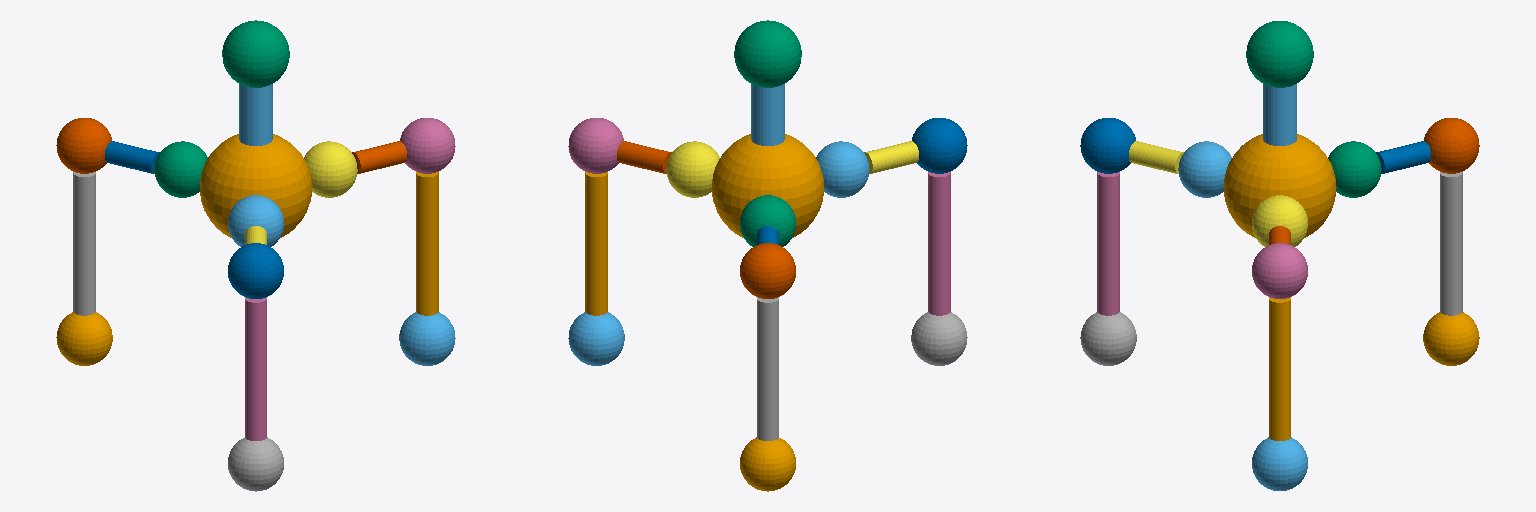
robot.urdf — spider/spider:
<?xml version="1.0"?>
<robot name="spider/spider">
<link name="brain">
  <inertial>
   <mass value="1"/>
   <inertia ixx="0.016" ixy="0" ixz="0" iyy="0.016" iyz="0" izz="0.016"/>
  </inertial>
  <collision>
    <origin rpy="0 0 0" xyz="0 0 0"/>
    <geometry>
      <sphere radius="0.2"/>
    </geometry>
  </collision>
  <visual>
    <origin rpy="0 0 0" xyz="0 0 0"/>
    <geometry>
      <sphere radius="0.2"/>
    </geometry>
  </visual>
</link>

 <link name="eye_brain">
  <inertial>
    <mass value="1"/>
    <inertia ixx="0.0084" ixy="0" ixz="0" iyy="0.0084" iyz="0" izz="0.0009"/>
  </inertial>
  <visual>
    <origin rpy="0 0 1.57" xyz="0 0 0.3"/>
    <geometry>
      <cylinder length="0.3" radius="0.06"/>
    </geometry>
  </visual>
  <collision>
    <origin rpy="0 0 1.57" xyz="0 0 0.3"/>
    <geometry>
      <cylinder length="0.3" radius="0.06"/>
    </geometry>
  </collision>
 </link>

<joint name="joint_eye_brain_brain" type="fixed">
  <origin rpy="0 0 0" xyz="0 0 0"/>
  <parent link="eye_brain"/>
  <child link="brain"/>
</joint>

<link name="container_brain">
  <inertial>
   <mass value="1"/>
   <inertia ixx="0.00576" ixy="0" ixz="0" iyy="0.00576" iyz="0" izz="0.00576"/>
  </inertial>
  <collision>
    <origin rpy="0 0 0" xyz="0 0 0.52"/>
    <geometry>
      <sphere radius="0.12"/>
    </geometry>
  </collision>
  <visual>
    <origin rpy="0 0 0" xyz="0 0 0.52"/>
    <geometry>
      <sphere radius="0.12"/>
    </geometry>
  </visual>
</link>

<joint name="joint_container_brain_eye_brain" type="fixed">
  <origin rpy="0 0 0" xyz="0 0 0"/>
  <parent link="container_brain"/>
  <child link="eye_brain"/>
</joint>

<link name="brain_sphere_0">
  <inertial>
   <mass value="1"/>
   <inertia ixx="0.004" ixy="0" ixz="0" iyy="0.004" iyz="0" izz="0.004"/>
  </inertial>
  <collision>
    <origin rpy="0 0 0" xyz="0.3 0.0 0"/>
    <geometry>
      <sphere radius="0.1"/>
    </geometry>
  </collision>
  <visual>
    <origin rpy="0 0 0" xyz="0.3 0.0 0"/>
    <geometry>
      <sphere radius="0.1"/>
    </geometry>
  </visual>
</link>

<joint name="joint_brain_brain_sphere_0" type="fixed">
  <origin rpy="0 0 0" xyz="0 0 0"/>
  <parent link="brain"/>
  <child link="brain_sphere_0"/>
</joint>

<joint name="leg_0_link0_spherical_Z" type="revolute">
  <origin rpy="0 0 0" xyz="0.3 0.0 0"/>
  <parent link="brain_sphere_0"/>
  <child link="brain_sphere_0_spherical_joint_link"/>
  <axis xyz="0 0 1"/>
  <dynamics damping="0.01" friction="0.5"/>
  <limit lower="-0.196349540849" upper="0.196349540849" effort="0.01" velocity="100"/>
</joint>

<link name="brain_sphere_0_spherical_joint_link" physical="0">
  <inertial>
   <mass value="1"/>
   <inertia ixx="4e-07" ixy="0" ixz="0" iyy="4e-07" iyz="0" izz="4e-07"/>
  </inertial>
  <collision>
    <origin rpy="0 0 0" xyz="0 0 0"/>
    <geometry>
      <sphere radius="0.001"/>
    </geometry>
  </collision>
  <visual>
    <origin rpy="0 0 0" xyz="0 0 0"/>
    <geometry>
      <sphere radius="0.001"/>
    </geometry>
  </visual>
</link>

<joint name="leg_0_link0_spherical_Y" type="revolute">
  <origin rpy="0 0 0" xyz="0 0 0"/>
  <parent link="brain_sphere_0_spherical_joint_link"/>
  <child link="leg_0_link0"/>
  <axis xyz="0 1 0"/>
  <dynamics damping="0.01" friction="0.5"/>
  <limit lower="-0.196349540849" upper="0.196349540849" effort="0.01" velocity="100"/>
</joint>

 <link name="leg_0_link0">
  <inertial>
    <mass value="1"/>
    <inertia ixx="0.00340833333333" ixy="0" ixz="0" iyy="0.00340833333333" iyz="0" izz="0.0004"/>
  </inertial>
  <visual>
    <origin rpy="0 1.57 0.0" xyz="0.2 0.0 0"/>
    <geometry>
      <cylinder length="0.19" radius="0.04"/>
    </geometry>
  </visual>
  <collision>
    <origin rpy="0 1.57 0.0" xyz="0.2 0.0 0"/>
    <geometry>
      <cylinder length="0.19" radius="0.04"/>
    </geometry>
  </collision>
 </link>

<link name="leg_0_link0_sphere">
  <inertial>
   <mass value="1"/>
   <inertia ixx="0.004" ixy="0" ixz="0" iyy="0.004" iyz="0" izz="0.004"/>
  </inertial>
  <collision>
    <origin rpy="0 0 0" xyz="0.4 0.0 0"/>
    <geometry>
      <sphere radius="0.1"/>
    </geometry>
  </collision>
  <visual>
    <origin rpy="0 0 0" xyz="0.4 0.0 0"/>
    <geometry>
      <sphere radius="0.1"/>
    </geometry>
  </visual>
</link>

<joint name="joint_leg_0_link0_leg_0_link0_sphere" type="fixed">
  <origin rpy="0 0 0" xyz="0 0 0"/>
  <parent link="leg_0_link0"/>
  <child link="leg_0_link0_sphere"/>
</joint>

<joint name="leg_0_link1_spherical_Z" type="revolute">
  <origin rpy="0 0 0" xyz="0.4 0.0 0"/>
  <parent link="leg_0_link0_sphere"/>
  <child link="leg_0_link0_sphere_spherical_joint_link"/>
  <axis xyz="0 0 1"/>
  <dynamics damping="0.01" friction="0.5"/>
  <limit lower="-0.196349540849" upper="0.196349540849" effort="0.01" velocity="100"/>
</joint>

<link name="leg_0_link0_sphere_spherical_joint_link" physical="0">
  <inertial>
   <mass value="1"/>
   <inertia ixx="4e-07" ixy="0" ixz="0" iyy="4e-07" iyz="0" izz="4e-07"/>
  </inertial>
  <collision>
    <origin rpy="0 0 0" xyz="0 0 0"/>
    <geometry>
      <sphere radius="0.001"/>
    </geometry>
  </collision>
  <visual>
    <origin rpy="0 0 0" xyz="0 0 0"/>
    <geometry>
      <sphere radius="0.001"/>
    </geometry>
  </visual>
</link>

<joint name="leg_0_link1_spherical_Y" type="revolute">
  <origin rpy="0 0 0" xyz="0 0 0"/>
  <parent link="leg_0_link0_sphere_spherical_joint_link"/>
  <child link="leg_0_link1"/>
  <axis xyz="0 1 0"/>
  <dynamics damping="0.01" friction="0.5"/>
  <limit lower="-0.196349540849" upper="0.196349540849" effort="0.01" velocity="100"/>
</joint>

 <link name="leg_0_link1">
  <inertial>
    <mass value="1"/>
    <inertia ixx="0.0247" ixy="0" ixz="0" iyy="0.0247" iyz="0" izz="0.0004"/>
  </inertial>
  <visual>
    <origin rpy="0 0 0.0" xyz="0 0 -0.375"/>
    <geometry>
      <cylinder length="0.54" radius="0.04"/>
    </geometry>
  </visual>
  <collision>
    <origin rpy="0 0 0.0" xyz="0 0 -0.375"/>
    <geometry>
      <cylinder length="0.54" radius="0.04"/>
    </geometry>
  </collision>
 </link>

<link name="leg_0_link1_sphere">
  <inertial>
   <mass value="1"/>
   <inertia ixx="0.004" ixy="0" ixz="0" iyy="0.004" iyz="0" izz="0.004"/>
  </inertial>
  <collision>
    <origin rpy="0 0 0" xyz="0 0 -0.75"/>
    <geometry>
      <sphere radius="0.1"/>
    </geometry>
  </collision>
  <visual>
    <origin rpy="0 0 0" xyz="0 0 -0.75"/>
    <geometry>
      <sphere radius="0.1"/>
    </geometry>
  </visual>
</link>

<joint name="joint_leg_0_link1_leg_0_link1_sphere" type="fixed">
  <origin rpy="0 0 0" xyz="0 0 0"/>
  <parent link="leg_0_link1"/>
  <child link="leg_0_link1_sphere"/>
</joint>

<link name="brain_sphere_1">
  <inertial>
   <mass value="1"/>
   <inertia ixx="0.004" ixy="0" ixz="0" iyy="0.004" iyz="0" izz="0.004"/>
  </inertial>
  <collision>
    <origin rpy="0 0 0" xyz="-0.15 0.259807621135 0"/>
    <geometry>
      <sphere radius="0.1"/>
    </geometry>
  </collision>
  <visual>
    <origin rpy="0 0 0" xyz="-0.15 0.259807621135 0"/>
    <geometry>
      <sphere radius="0.1"/>
    </geometry>
  </visual>
</link>

<joint name="joint_brain_brain_sphere_1" type="fixed">
  <origin rpy="0 0 0" xyz="0 0 0"/>
  <parent link="brain"/>
  <child link="brain_sphere_1"/>
</joint>

<joint name="leg_1_link0_spherical_Z" type="revolute">
  <origin rpy="0 0 0" xyz="-0.15 0.259807621135 0"/>
  <parent link="brain_sphere_1"/>
  <child link="brain_sphere_1_spherical_joint_link"/>
  <axis xyz="0 0 1"/>
  <dynamics damping="0.01" friction="0.5"/>
  <limit lower="-0.196349540849" upper="0.196349540849" effort="0.01" velocity="100"/>
</joint>

<link name="brain_sphere_1_spherical_joint_link" physical="0">
  <inertial>
   <mass value="1"/>
   <inertia ixx="4e-07" ixy="0" ixz="0" iyy="4e-07" iyz="0" izz="4e-07"/>
  </inertial>
  <collision>
    <origin rpy="0 0 0" xyz="0 0 0"/>
    <geometry>
      <sphere radius="0.001"/>
    </geometry>
  </collision>
  <visual>
    <origin rpy="0 0 0" xyz="0 0 0"/>
    <geometry>
      <sphere radius="0.001"/>
    </geometry>
  </visual>
</link>

<joint name="leg_1_link0_spherical_Y" type="revolute">
  <origin rpy="0 0 0" xyz="0 0 0"/>
  <parent link="brain_sphere_1_spherical_joint_link"/>
  <child link="leg_1_link0"/>
  <axis xyz="0 1 0"/>
  <dynamics damping="0.01" friction="0.5"/>
  <limit lower="-0.196349540849" upper="0.196349540849" effort="0.01" velocity="100"/>
</joint>

 <link name="leg_1_link0">
  <inertial>
    <mass value="1"/>
    <inertia ixx="0.00340833333333" ixy="0" ixz="0" iyy="0.00340833333333" iyz="0" izz="0.0004"/>
  </inertial>
  <visual>
    <origin rpy="0 1.57 2.09439510239" xyz="-0.1 0.173205080757 0"/>
    <geometry>
      <cylinder length="0.19" radius="0.04"/>
    </geometry>
  </visual>
  <collision>
    <origin rpy="0 1.57 2.09439510239" xyz="-0.1 0.173205080757 0"/>
    <geometry>
      <cylinder length="0.19" radius="0.04"/>
    </geometry>
  </collision>
 </link>

<link name="leg_1_link0_sphere">
  <inertial>
   <mass value="1"/>
   <inertia ixx="0.004" ixy="0" ixz="0" iyy="0.004" iyz="0" izz="0.004"/>
  </inertial>
  <collision>
    <origin rpy="0 0 0" xyz="-0.2 0.346410161514 0"/>
    <geometry>
      <sphere radius="0.1"/>
    </geometry>
  </collision>
  <visual>
    <origin rpy="0 0 0" xyz="-0.2 0.346410161514 0"/>
    <geometry>
      <sphere radius="0.1"/>
    </geometry>
  </visual>
</link>

<joint name="joint_leg_1_link0_leg_1_link0_sphere" type="fixed">
  <origin rpy="0 0 0" xyz="0 0 0"/>
  <parent link="leg_1_link0"/>
  <child link="leg_1_link0_sphere"/>
</joint>

<joint name="leg_1_link1_spherical_Z" type="revolute">
  <origin rpy="0 0 0" xyz="-0.2 0.346410161514 0"/>
  <parent link="leg_1_link0_sphere"/>
  <child link="leg_1_link0_sphere_spherical_joint_link"/>
  <axis xyz="0 0 1"/>
  <dynamics damping="0.01" friction="0.5"/>
  <limit lower="-0.196349540849" upper="0.196349540849" effort="0.01" velocity="100"/>
</joint>

<link name="leg_1_link0_sphere_spherical_joint_link" physical="0">
  <inertial>
   <mass value="1"/>
   <inertia ixx="4e-07" ixy="0" ixz="0" iyy="4e-07" iyz="0" izz="4e-07"/>
  </inertial>
  <collision>
    <origin rpy="0 0 0" xyz="0 0 0"/>
    <geometry>
      <sphere radius="0.001"/>
    </geometry>
  </collision>
  <visual>
    <origin rpy="0 0 0" xyz="0 0 0"/>
    <geometry>
      <sphere radius="0.001"/>
    </geometry>
  </visual>
</link>

<joint name="leg_1_link1_spherical_Y" type="revolute">
  <origin rpy="0 0 0" xyz="0 0 0"/>
  <parent link="leg_1_link0_sphere_spherical_joint_link"/>
  <child link="leg_1_link1"/>
  <axis xyz="0 1 0"/>
  <dynamics damping="0.01" friction="0.5"/>
  <limit lower="-0.196349540849" upper="0.196349540849" effort="0.01" velocity="100"/>
</joint>

 <link name="leg_1_link1">
  <inertial>
    <mass value="1"/>
    <inertia ixx="0.0247" ixy="0" ixz="0" iyy="0.0247" iyz="0" izz="0.0004"/>
  </inertial>
  <visual>
    <origin rpy="0 0 2.09439510239" xyz="0 0 -0.375"/>
    <geometry>
      <cylinder length="0.54" radius="0.04"/>
    </geometry>
  </visual>
  <collision>
    <origin rpy="0 0 2.09439510239" xyz="0 0 -0.375"/>
    <geometry>
      <cylinder length="0.54" radius="0.04"/>
    </geometry>
  </collision>
 </link>

<link name="leg_1_link1_sphere">
  <inertial>
   <mass value="1"/>
   <inertia ixx="0.004" ixy="0" ixz="0" iyy="0.004" iyz="0" izz="0.004"/>
  </inertial>
  <collision>
    <origin rpy="0 0 0" xyz="0 0 -0.75"/>
    <geometry>
      <sphere radius="0.1"/>
    </geometry>
  </collision>
  <visual>
    <origin rpy="0 0 0" xyz="0 0 -0.75"/>
    <geometry>
      <sphere radius="0.1"/>
    </geometry>
  </visual>
</link>

<joint name="joint_leg_1_link1_leg_1_link1_sphere" type="fixed">
  <origin rpy="0 0 0" xyz="0 0 0"/>
  <parent link="leg_1_link1"/>
  <child link="leg_1_link1_sphere"/>
</joint>

<link name="brain_sphere_2">
  <inertial>
   <mass value="1"/>
   <inertia ixx="0.004" ixy="0" ixz="0" iyy="0.004" iyz="0" izz="0.004"/>
  </inertial>
  <collision>
    <origin rpy="0 0 0" xyz="-0.15 -0.259807621135 0"/>
    <geometry>
      <sphere radius="0.1"/>
    </geometry>
  </collision>
  <visual>
    <origin rpy="0 0 0" xyz="-0.15 -0.259807621135 0"/>
    <geometry>
      <sphere radius="0.1"/>
    </geometry>
  </visual>
</link>

<joint name="joint_brain_brain_sphere_2" type="fixed">
  <origin rpy="0 0 0" xyz="0 0 0"/>
  <parent link="brain"/>
  <child link="brain_sphere_2"/>
</joint>

<joint name="leg_2_link0_spherical_Z" type="revolute">
  <origin rpy="0 0 0" xyz="-0.15 -0.259807621135 0"/>
  <parent link="brain_sphere_2"/>
  <child link="brain_sphere_2_spherical_joint_link"/>
  <axis xyz="0 0 1"/>
  <dynamics damping="0.01" friction="0.5"/>
  <limit lower="-0.196349540849" upper="0.196349540849" effort="0.01" velocity="100"/>
</joint>

<link name="brain_sphere_2_spherical_joint_link" physical="0">
  <inertial>
   <mass value="1"/>
   <inertia ixx="4e-07" ixy="0" ixz="0" iyy="4e-07" iyz="0" izz="4e-07"/>
  </inertial>
  <collision>
    <origin rpy="0 0 0" xyz="0 0 0"/>
    <geometry>
      <sphere radius="0.001"/>
    </geometry>
  </collision>
  <visual>
    <origin rpy="0 0 0" xyz="0 0 0"/>
    <geometry>
      <sphere radius="0.001"/>
    </geometry>
  </visual>
</link>

<joint name="leg_2_link0_spherical_Y" type="revolute">
  <origin rpy="0 0 0" xyz="0 0 0"/>
  <parent link="brain_sphere_2_spherical_joint_link"/>
  <child link="leg_2_link0"/>
  <axis xyz="0 1 0"/>
  <dynamics damping="0.01" friction="0.5"/>
  <limit lower="-0.196349540849" upper="0.196349540849" effort="0.01" velocity="100"/>
</joint>

 <link name="leg_2_link0">
  <inertial>
    <mass value="1"/>
    <inertia ixx="0.00340833333333" ixy="0" ixz="0" iyy="0.00340833333333" iyz="0" izz="0.0004"/>
  </inertial>
  <visual>
    <origin rpy="0 1.57 4.18879020479" xyz="-0.1 -0.173205080757 0"/>
    <geometry>
      <cylinder length="0.19" radius="0.04"/>
    </geometry>
  </visual>
  <collision>
    <origin rpy="0 1.57 4.18879020479" xyz="-0.1 -0.173205080757 0"/>
    <geometry>
      <cylinder length="0.19" radius="0.04"/>
    </geometry>
  </collision>
 </link>

<link name="leg_2_link0_sphere">
  <inertial>
   <mass value="1"/>
   <inertia ixx="0.004" ixy="0" ixz="0" iyy="0.004" iyz="0" izz="0.004"/>
  </inertial>
  <collision>
    <origin rpy="0 0 0" xyz="-0.2 -0.346410161514 0"/>
    <geometry>
      <sphere radius="0.1"/>
    </geometry>
  </collision>
  <visual>
    <origin rpy="0 0 0" xyz="-0.2 -0.346410161514 0"/>
    <geometry>
      <sphere radius="0.1"/>
    </geometry>
  </visual>
</link>

<joint name="joint_leg_2_link0_leg_2_link0_sphere" type="fixed">
  <origin rpy="0 0 0" xyz="0 0 0"/>
  <parent link="leg_2_link0"/>
  <child link="leg_2_link0_sphere"/>
</joint>

<joint name="leg_2_link1_spherical_Z" type="revolute">
  <origin rpy="0 0 0" xyz="-0.2 -0.346410161514 0"/>
  <parent link="leg_2_link0_sphere"/>
  <child link="leg_2_link0_sphere_spherical_joint_link"/>
  <axis xyz="0 0 1"/>
  <dynamics damping="0.01" friction="0.5"/>
  <limit lower="-0.196349540849" upper="0.196349540849" effort="0.01" velocity="100"/>
</joint>

<link name="leg_2_link0_sphere_spherical_joint_link" physical="0">
  <inertial>
   <mass value="1"/>
   <inertia ixx="4e-07" ixy="0" ixz="0" iyy="4e-07" iyz="0" izz="4e-07"/>
  </inertial>
  <collision>
    <origin rpy="0 0 0" xyz="0 0 0"/>
    <geometry>
      <sphere radius="0.001"/>
    </geometry>
  </collision>
  <visual>
    <origin rpy="0 0 0" xyz="0 0 0"/>
    <geometry>
      <sphere radius="0.001"/>
    </geometry>
  </visual>
</link>

<joint name="leg_2_link1_spherical_Y" type="revolute">
  <origin rpy="0 0 0" xyz="0 0 0"/>
  <parent link="leg_2_link0_sphere_spherical_joint_link"/>
  <child link="leg_2_link1"/>
  <axis xyz="0 1 0"/>
  <dynamics damping="0.01" friction="0.5"/>
  <limit lower="-0.196349540849" upper="0.196349540849" effort="0.01" velocity="100"/>
</joint>

 <link name="leg_2_link1">
  <inertial>
    <mass value="1"/>
    <inertia ixx="0.0247" ixy="0" ixz="0" iyy="0.0247" iyz="0" izz="0.0004"/>
  </inertial>
  <visual>
    <origin rpy="0 0 4.18879020479" xyz="0 0 -0.375"/>
    <geometry>
      <cylinder length="0.54" radius="0.04"/>
    </geometry>
  </visual>
  <collision>
    <origin rpy="0 0 4.18879020479" xyz="0 0 -0.375"/>
    <geometry>
      <cylinder length="0.54" radius="0.04"/>
    </geometry>
  </collision>
 </link>

<link name="leg_2_link1_sphere">
  <inertial>
   <mass value="1"/>
   <inertia ixx="0.004" ixy="0" ixz="0" iyy="0.004" iyz="0" izz="0.004"/>
  </inertial>
  <collision>
    <origin rpy="0 0 0" xyz="0 0 -0.75"/>
    <geometry>
      <sphere radius="0.1"/>
    </geometry>
  </collision>
  <visual>
    <origin rpy="0 0 0" xyz="0 0 -0.75"/>
    <geometry>
      <sphere radius="0.1"/>
    </geometry>
  </visual>
</link>

<joint name="joint_leg_2_link1_leg_2_link1_sphere" type="fixed">
  <origin rpy="0 0 0" xyz="0 0 0"/>
  <parent link="leg_2_link1"/>
  <child link="leg_2_link1_sphere"/>
</joint>

  <klampt package_root="../../.." default_acc_max="4" >
    <noselfcollision pairs="brain eye_brain"/>
    <noselfcollision pairs="eye_brain container_brain"/>
  </klampt>
</robot>

--- What the picture shows (computed from the rendered views, not written in the file) ---
3 views of the same robot in one strip: view 1: azimuth 30°, elevation 25°; view 2: azimuth 150°, elevation 25°; view 3: azimuth 270°, elevation 25° (orthographic).
Model spider/spider with 24 links and 23 joints (12 revolute, 11 fixed), rooted at container_brain, posed all joints at 0.
Links seen in each view (by area): view 1: brain, container_brain, leg_1_link1, leg_0_link1, leg_2_link1, leg_2_link0_sphere, leg_2_link1_sphere, leg_0_link1_sphere, leg_1_link1_sphere, leg_0_link0_sphere, leg_1_link0_sphere, brain_sphere_1 (+5 smaller); view 2: brain, container_brain, leg_2_link1, leg_0_link1, leg_1_link1, leg_1_link0_sphere, leg_1_link1_sphere, leg_0_link1_sphere, leg_2_link1_sphere, leg_0_link0_sphere, leg_2_link0_sphere, brain_sphere_2 (+5 smaller); view 3: brain, container_brain, leg_1_link1, leg_2_link1, leg_0_link1, leg_0_link0_sphere, leg_0_link1_sphere, leg_1_link1_sphere, leg_2_link1_sphere, leg_1_link0_sphere, leg_2_link0_sphere, brain_sphere_1 (+5 smaller).
Link boxes in pixels (x1,y1,x2,y2): brain: (200,134,311,237); container_brain: (222,20,289,87); leg_1_link1: (73,172,95,315); leg_0_link1: (416,172,438,315); leg_2_link1: (245,297,266,440); leg_2_link0_sphere: (228,243,283,298); leg_2_link1_sphere: (228,437,283,491); leg_0_link1_sphere: (399,312,455,365); leg_1_link1_sphere: (56,312,112,365); leg_0_link0_sphere: (400,118,455,173); leg_1_link0_sphere: (56,118,111,173); brain_sphere_1: (154,141,207,197); brain: (712,134,823,237); container_brain: (734,20,801,87); leg_2_link1: (928,172,950,315); leg_0_link1: (585,172,607,315); leg_1_link1: (757,297,778,440); leg_1_link0_sphere: (740,243,795,298); leg_1_link1_sphere: (740,437,795,491); leg_0_link1_sphere: (568,312,624,365); leg_2_link1_sphere: (911,312,967,365); leg_0_link0_sphere: (568,118,623,173); leg_2_link0_sphere: (912,118,967,173); brain_sphere_2: (816,141,869,197); brain: (1223,134,1336,237); container_brain: (1246,21,1313,87); leg_1_link1: (1440,172,1462,315); leg_2_link1: (1097,172,1119,315); leg_0_link1: (1269,297,1290,440); leg_0_link0_sphere: (1252,243,1307,298); leg_0_link1_sphere: (1252,437,1307,490); leg_1_link1_sphere: (1423,312,1479,365); leg_2_link1_sphere: (1080,312,1136,365); leg_1_link0_sphere: (1424,118,1479,173); leg_2_link0_sphere: (1080,118,1135,173); brain_sphere_1: (1328,141,1381,197).
Size in the robot's own frame: 1.25 by 1.41 by 1.49 metres.
Geometry: primitives only (box / cylinder / sphere), no mesh files.